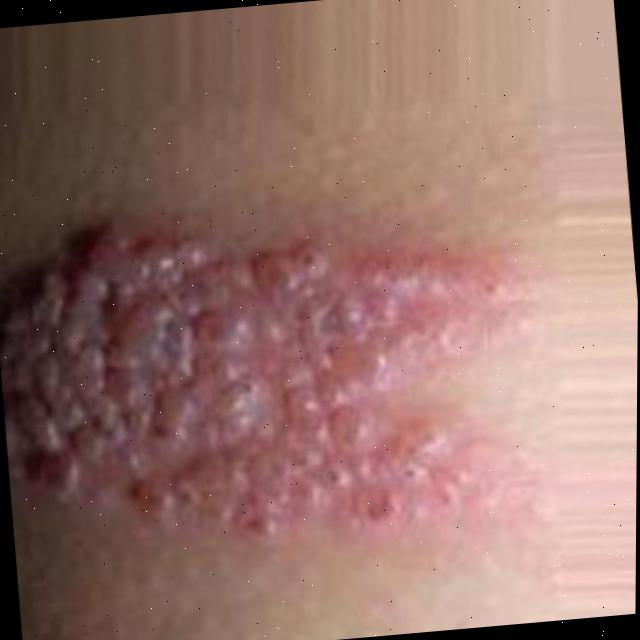Shingles: (0, 187, 541, 568)
